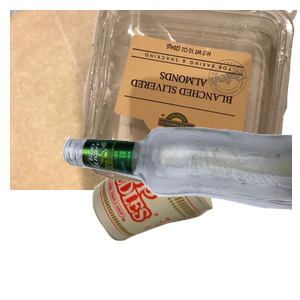cardboard: (10, 10, 250, 190)
glass: (60, 124, 300, 300)
plastic: (83, 10, 300, 190)
trash: (90, 129, 295, 300)
